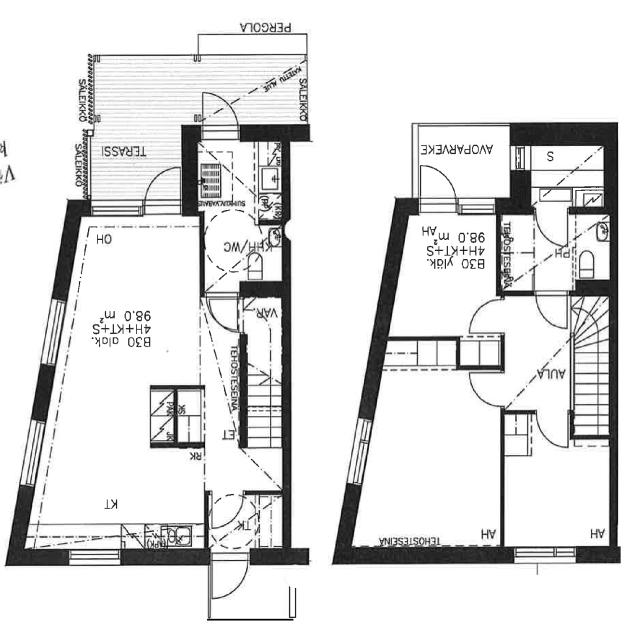door: (512, 204, 601, 276), (196, 88, 246, 136), (208, 550, 250, 603), (416, 162, 459, 213), (462, 294, 507, 339), (463, 366, 509, 410), (531, 201, 571, 249), (529, 287, 572, 331), (141, 162, 182, 205), (208, 489, 249, 530), (206, 289, 243, 334), (533, 408, 570, 450), (304, 552, 337, 586)
window: (342, 410, 368, 490), (36, 290, 62, 369), (505, 542, 584, 568), (17, 412, 44, 488), (61, 544, 127, 570), (88, 200, 144, 220), (458, 194, 500, 215), (507, 139, 529, 173), (283, 221, 294, 245)
zone: (358, 352, 506, 556), (59, 208, 203, 391), (395, 209, 501, 337), (500, 439, 616, 554), (498, 209, 608, 293), (194, 135, 286, 213), (200, 204, 284, 288), (524, 139, 608, 208)
